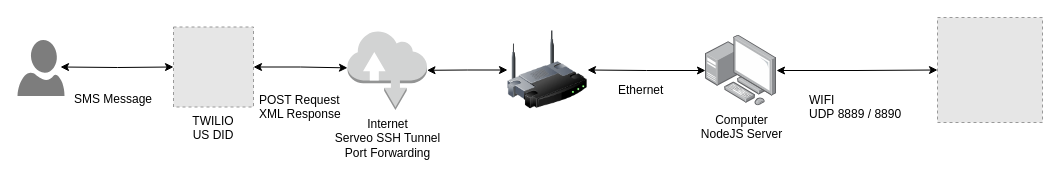
Image size: 1060x177. Some labels were removed from this diagram. Grey dashed boxes stand in for pictures. Here are the shapes that lost their labels. From the top down, the box of each, then its label:
(17, 40, 64, 96): USER
(507, 30, 587, 110): Router
